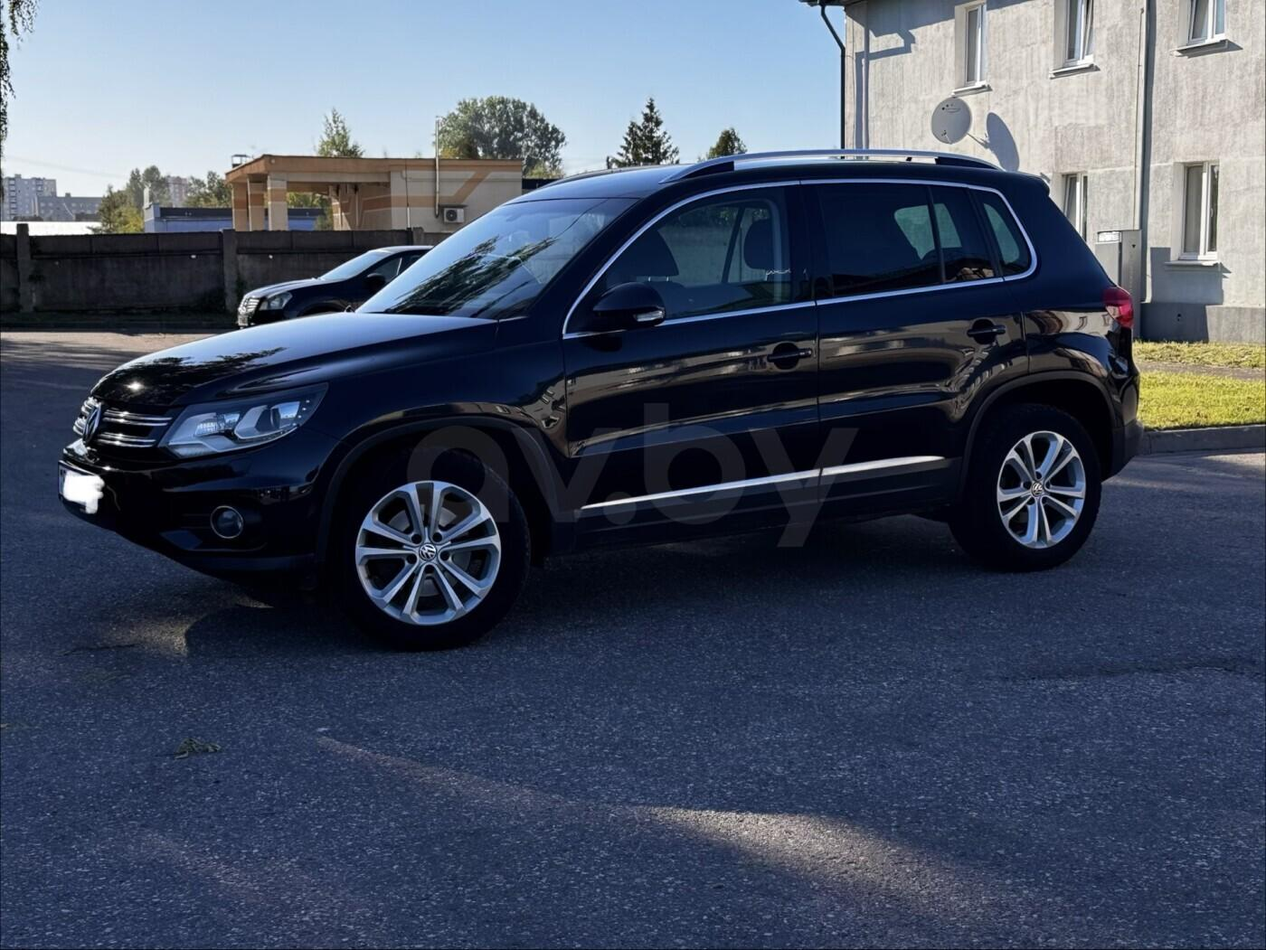Tiguan_2011-2018: (59, 155, 1142, 661)
